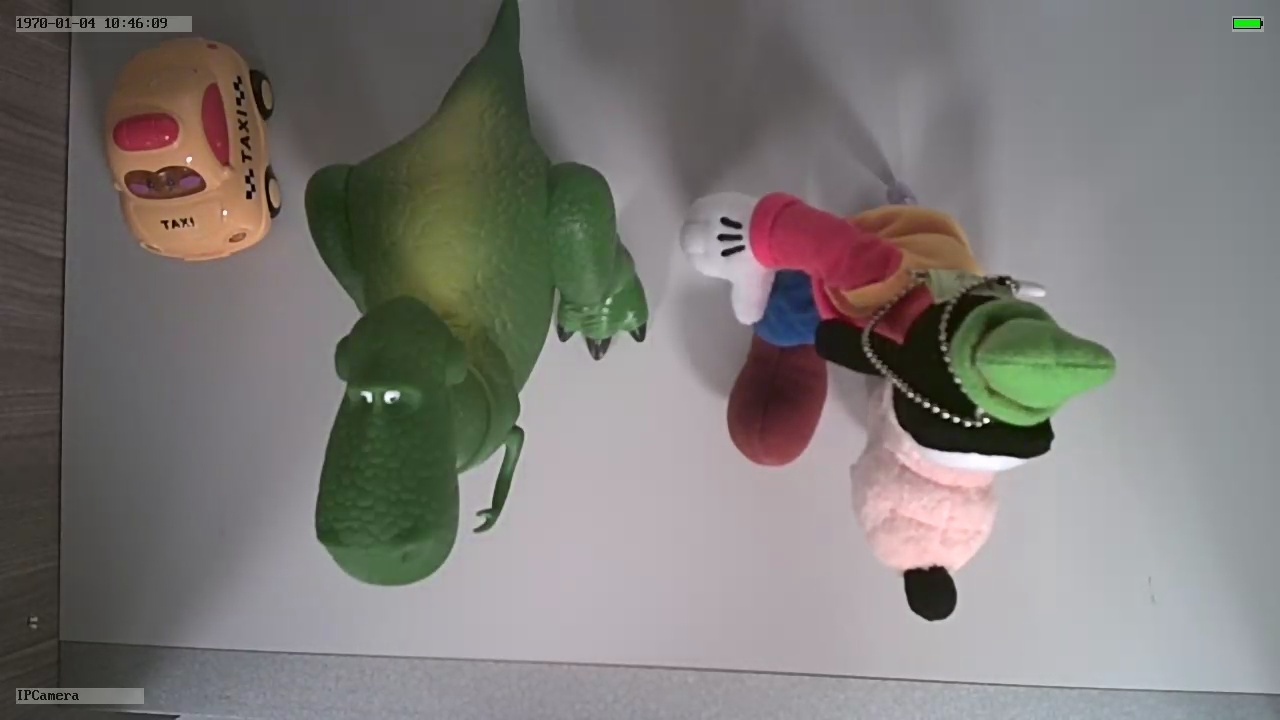car: (97, 34, 282, 266)
goofy: (670, 182, 1122, 629)
rex: (305, 69, 648, 586)
